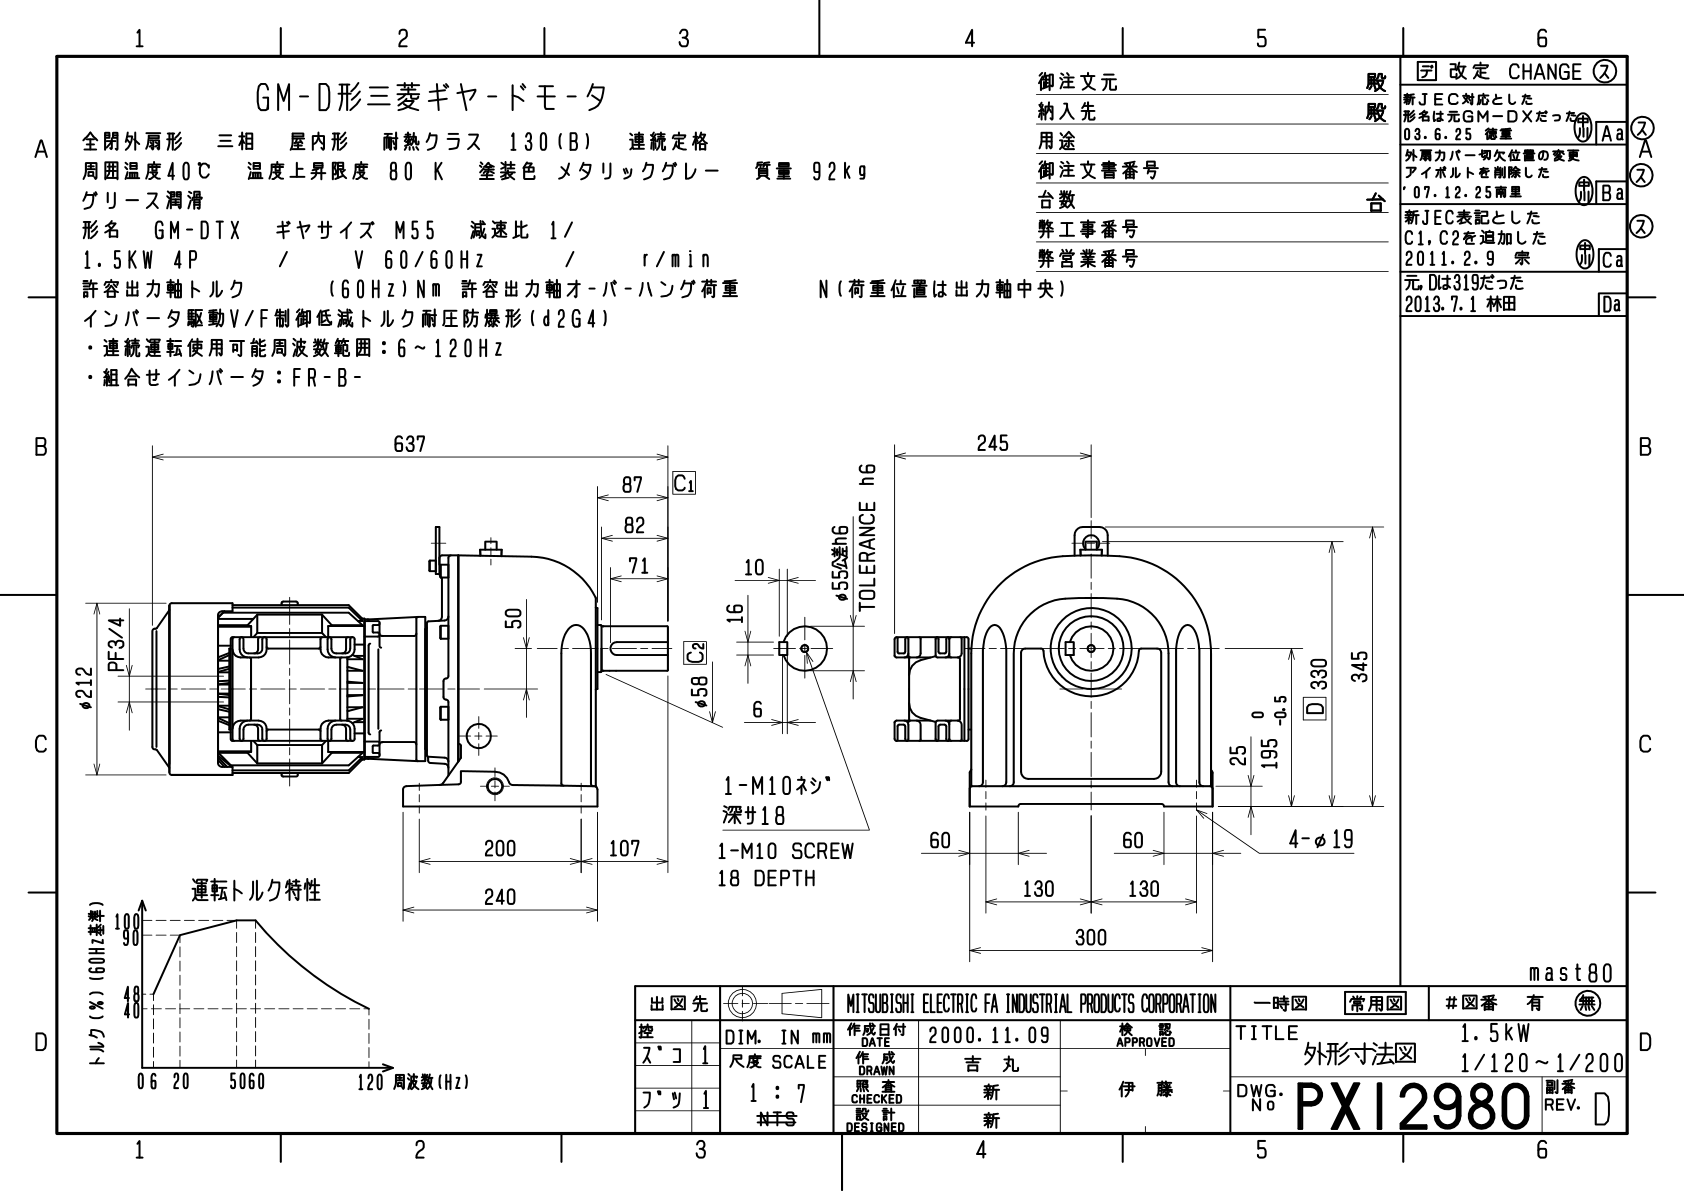GM_D_VF制御屋内_三相_脚: (67, 403, 1389, 971)
